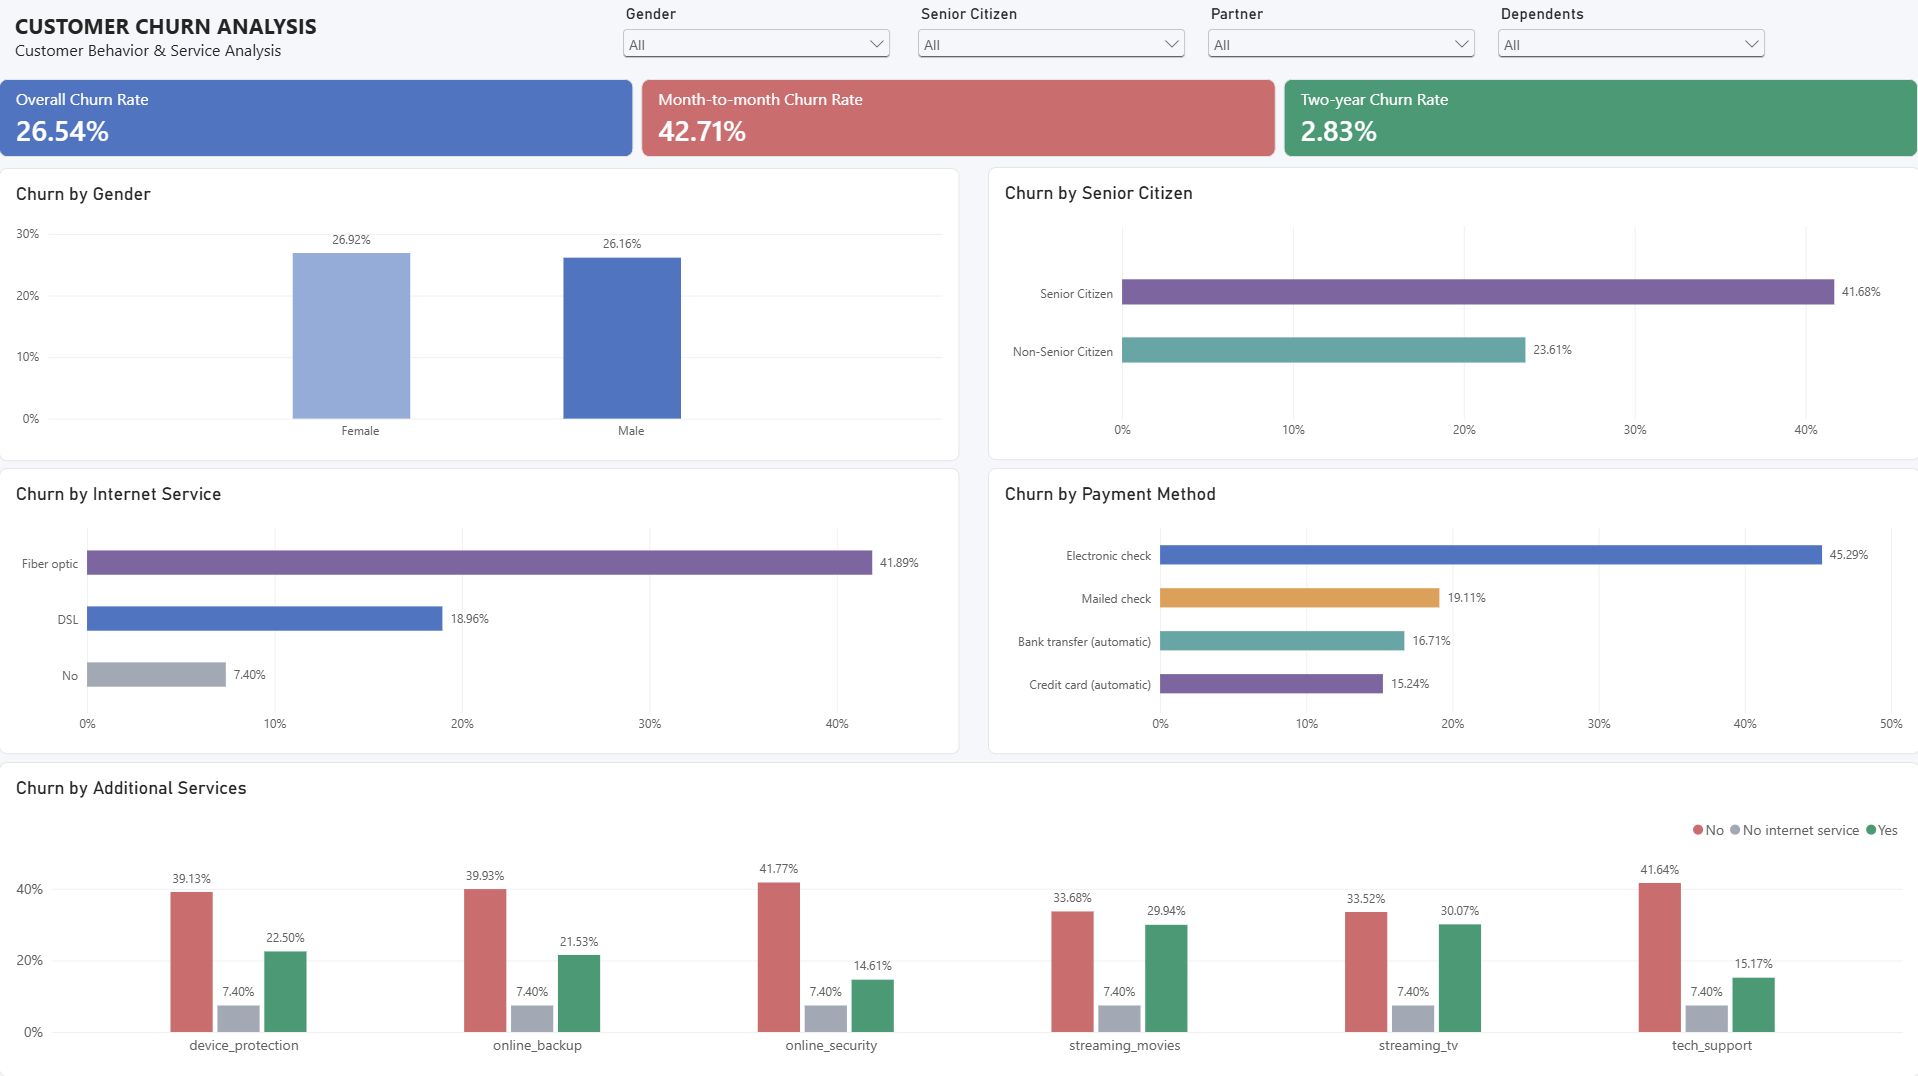

The page's visual inventory and layout, read from the dashboard file:
{"tool":"powerbi","page":{"name":"Page 2","canvas":[1920,1080],"ordinal":1},"visuals":[{"type":"cardVisual","fields":{"Data":["customers.Churn Rate","customers.Month-to-month Churn Rate","customers.Two-year Churn Rate"]},"box":[0,82,1920,79],"z":0},{"type":"clusteredColumnChart","title":"Churn by Gender","fields":{"Category":["customers.gender"],"Y":["customers.Churn Rate"]},"box":[0,170.9,960,292.5],"z":1000},{"type":"clusteredBarChart","title":"Churn by Senior Citizen","fields":{"Category":["customers.Senior Citizen Status"],"Y":["customers.Churn Rate"]},"box":[988.5,169.9,931.5,292.5],"z":2000},{"type":"clusteredBarChart","title":"Churn by Internet Service","fields":{"Category":["customers.internet_service"],"Y":["customers.Churn Rate"]},"box":[0,470.8,960,285.6],"z":3000},{"type":"clusteredBarChart","title":"Churn by Payment Method","fields":{"Category":["customers.payment_method"],"Y":["customers.Churn Rate"]},"box":[988.5,470.8,931.5,285.6],"z":4000},{"type":"clusteredColumnChart","title":"Churn by Additional Services","fields":{"Category":["customer_service.Service"],"Series":["customer_service.Service Status"],"Y":["customer_service.Service Churn Rate"]},"box":[0,764.6,1920,314.8],"z":5000},{"type":"slicer","fields":{"Values":["customers.gender"]},"box":[618.7,7,276.9,60],"z":6000},{"type":"slicer","fields":{"Values":["customers.senior_citizen"]},"box":[913.5,7,276.9,60],"z":7000},{"type":"slicer","fields":{"Values":["customers.partner"]},"box":[1203.4,7,276.9,60],"z":8000},{"type":"slicer","fields":{"Values":["customers.dependents"]},"box":[1493.2,7,276.9,60],"z":8001},{"type":"textbox","box":[16,14,531.7,87],"z":8002}]}

Visuals, with their boxes in screenshot pixels (x1, y1, x2, y2), scaled from the page's 1920x1080 canvas onto the 1918x1076 screenshot:
cardVisual - customers.Churn Rate x customers.Month-to-month Churn Rate: (left=0, top=82, right=1917, bottom=160)
"Churn by Gender" clusteredColumnChart: (left=0, top=170, right=959, bottom=462)
"Churn by Senior Citizen" clusteredBarChart: (left=987, top=169, right=1917, bottom=461)
"Churn by Internet Service" clusteredBarChart: (left=0, top=469, right=959, bottom=754)
"Churn by Payment Method" clusteredBarChart: (left=987, top=469, right=1917, bottom=754)
"Churn by Additional Services" clusteredColumnChart: (left=0, top=762, right=1917, bottom=1075)
slicer - customers.gender: (left=618, top=7, right=895, bottom=67)
slicer - customers.senior_citizen: (left=913, top=7, right=1189, bottom=67)
slicer - customers.partner: (left=1202, top=7, right=1479, bottom=67)
slicer - customers.dependents: (left=1492, top=7, right=1768, bottom=67)
textbox: (left=16, top=14, right=547, bottom=101)
